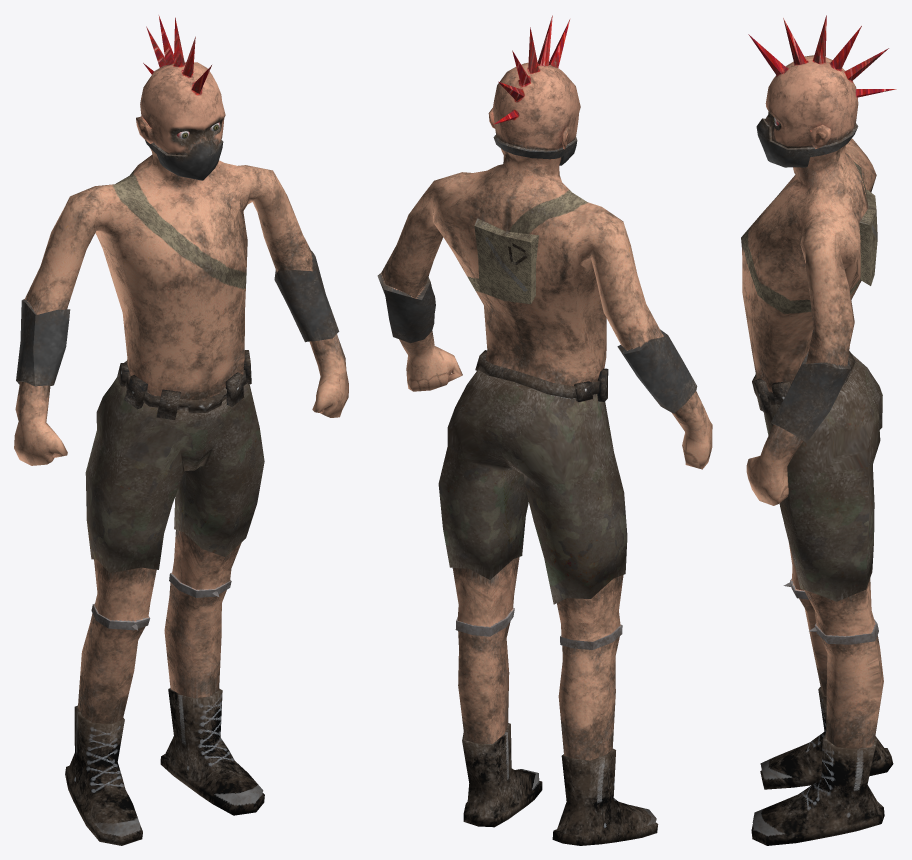
Rendered from Anim_cogerobjeto_npc2.0040.obj.
3 renders of one model, left to right at view 1: azimuth 30°, elevation 25°; view 2: azimuth 150°, elevation 25°; view 3: azimuth 270°, elevation 25°, orthographic. The views are drawn at different scales.
Parts seen in each view (by area): view 1: polySurface1; view 2: polySurface1; view 3: polySurface1.
Boxes of the visible parts, box(x1,y1,x2,y2) form: polySurface1: box(14, 15, 348, 845); polySurface1: box(377, 15, 712, 845); polySurface1: box(741, 15, 896, 845).
Bounding box in the file's own units: 4.34 × 10.36 × 1.82.
